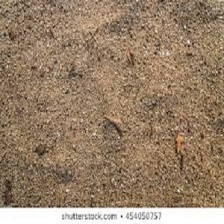sandy_soil: (9, 15, 220, 193)
